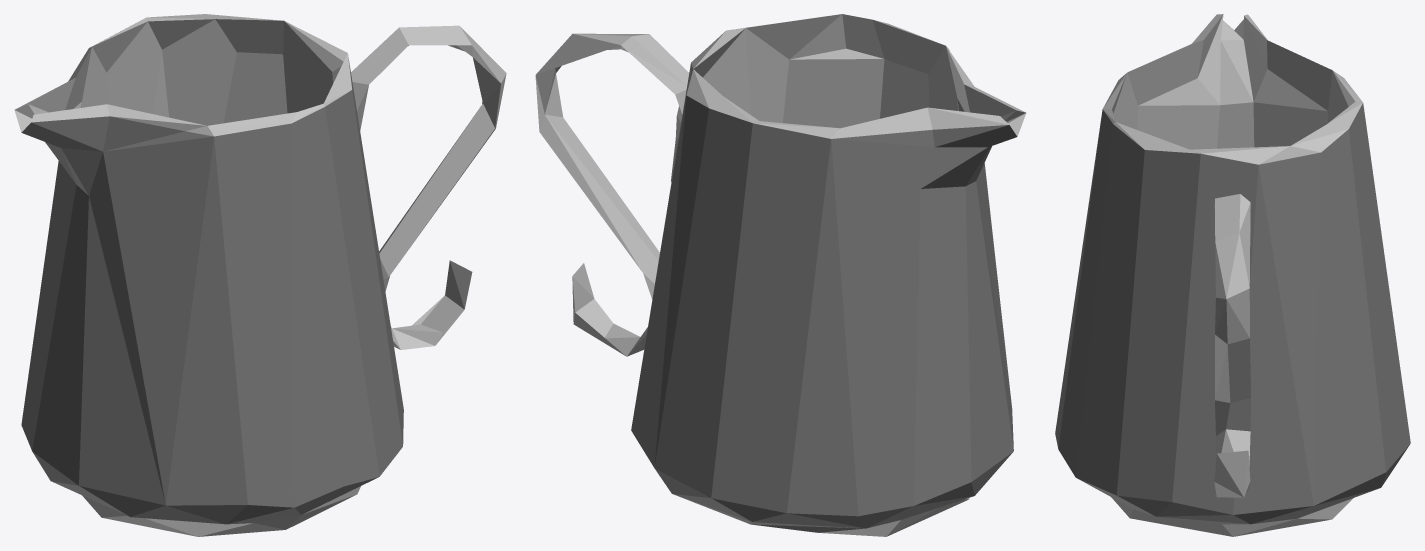
Rendered from MilkCanMetal.fbx.
3 views of the same model, side by side, from view 1: azimuth 30°, elevation 25°; view 2: azimuth 150°, elevation 25°; view 3: azimuth 270°, elevation 25° (orthographic). The views are drawn at different scales.
Parts seen in each view (by area): view 1: MilkCanLowPolyMetal; view 2: MilkCanLowPolyMetal; view 3: MilkCanLowPolyMetal.
Part boxes in pixels (<box>): MilkCanLowPolyMetal: <box>14,14,506,536</box>; MilkCanLowPolyMetal: <box>535,14,1026,536</box>; MilkCanLowPolyMetal: <box>1055,14,1410,536</box>.
Bounding box in the file's own units: 15.88 × 13.05 × 10.95.
